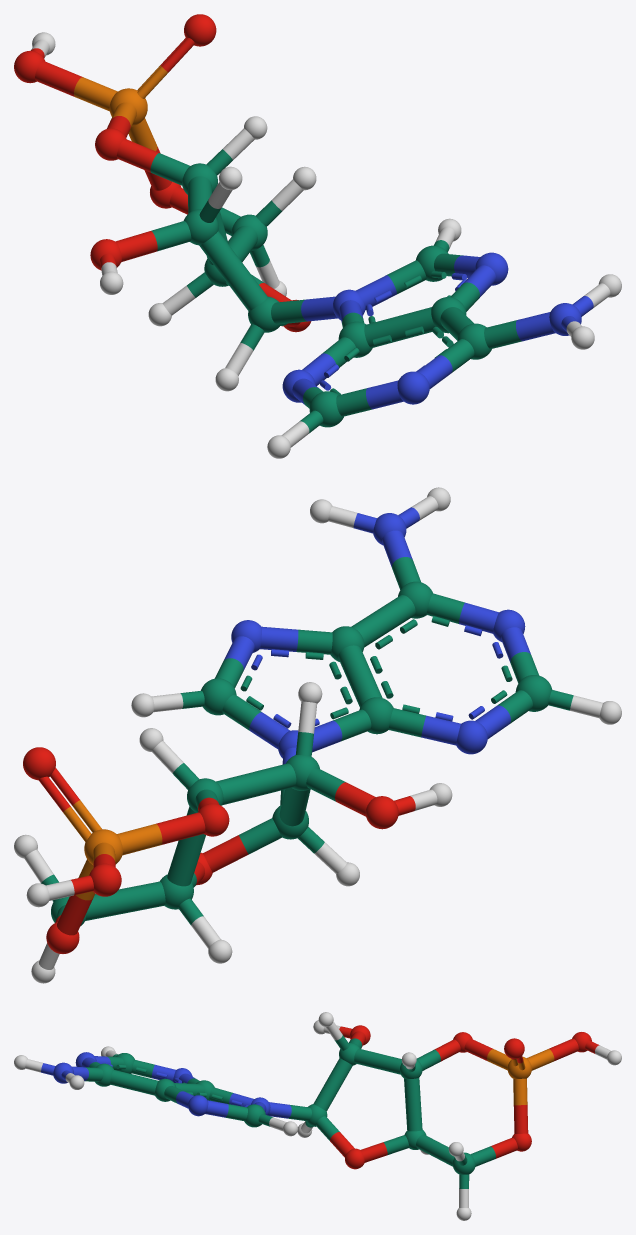
The model's file is CMP.glb.
3 views of the same model, one above another, from view 1: azimuth 30°, elevation 25°; view 2: azimuth 150°, elevation 25°; view 3: azimuth 270°, elevation 25° (orthographic). The views are drawn at different scales.
Bounding box in the file's own units: 5.43 × 4.13 × 13.41.
